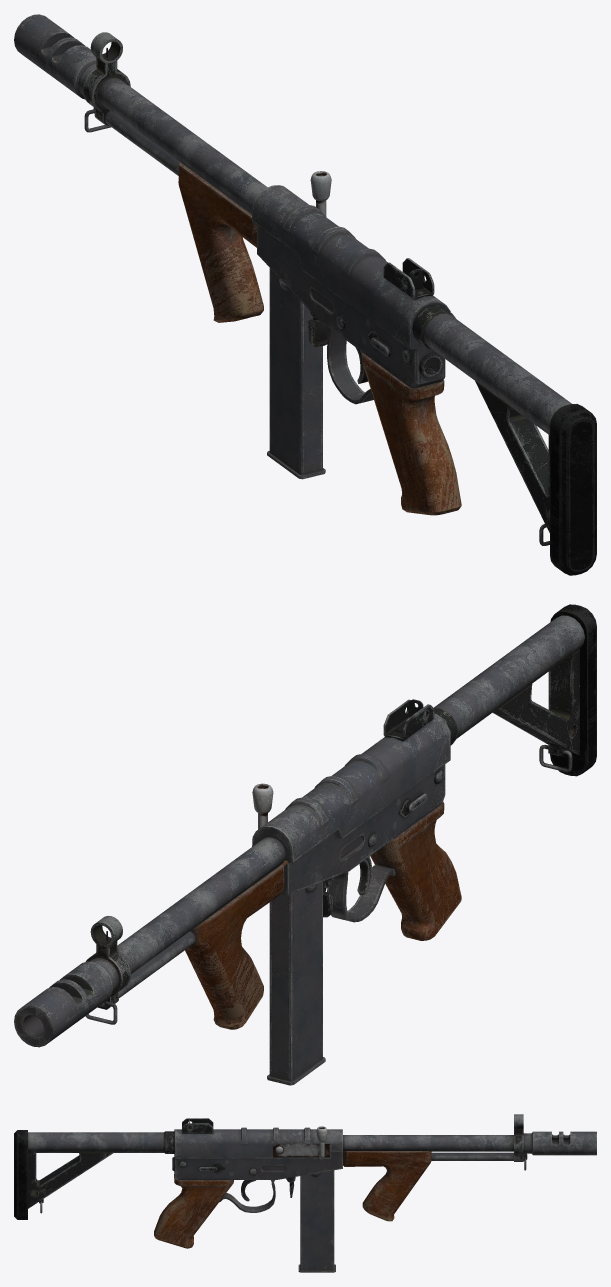
The model's file is smg.glb.
3 views of the same model, one above another, from view 1: azimuth 30°, elevation 25°; view 2: azimuth 150°, elevation 25°; view 3: azimuth 270°, elevation 25° (orthographic). The views are drawn at different scales.
Visible parts, largest first — view 1: base_smg_0, clip_smg_0; view 2: base_smg_0, clip_smg_0, bolt_smg_0; view 3: base_smg_0, clip_smg_0, bolt_smg_0.
Part boxes in pixels (box(x1,y1,x2,y2)): base_smg_0: box(14, 14, 596, 575); clip_smg_0: box(267, 268, 325, 479); base_smg_0: box(14, 604, 596, 1047); clip_smg_0: box(267, 881, 325, 1085); bolt_smg_0: box(252, 783, 273, 829); base_smg_0: box(14, 1114, 596, 1248); clip_smg_0: box(298, 1170, 335, 1272); bolt_smg_0: box(273, 1126, 329, 1159).
Size of the model in its own units: 5.88 by 27.68 by 95.
1 material, 1 textured.
